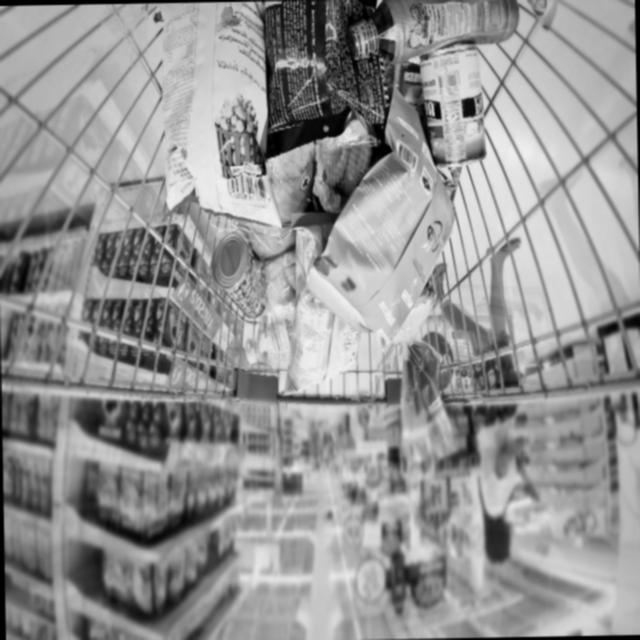bread: (383, 272, 457, 444)
oil: (242, 312, 306, 374)
